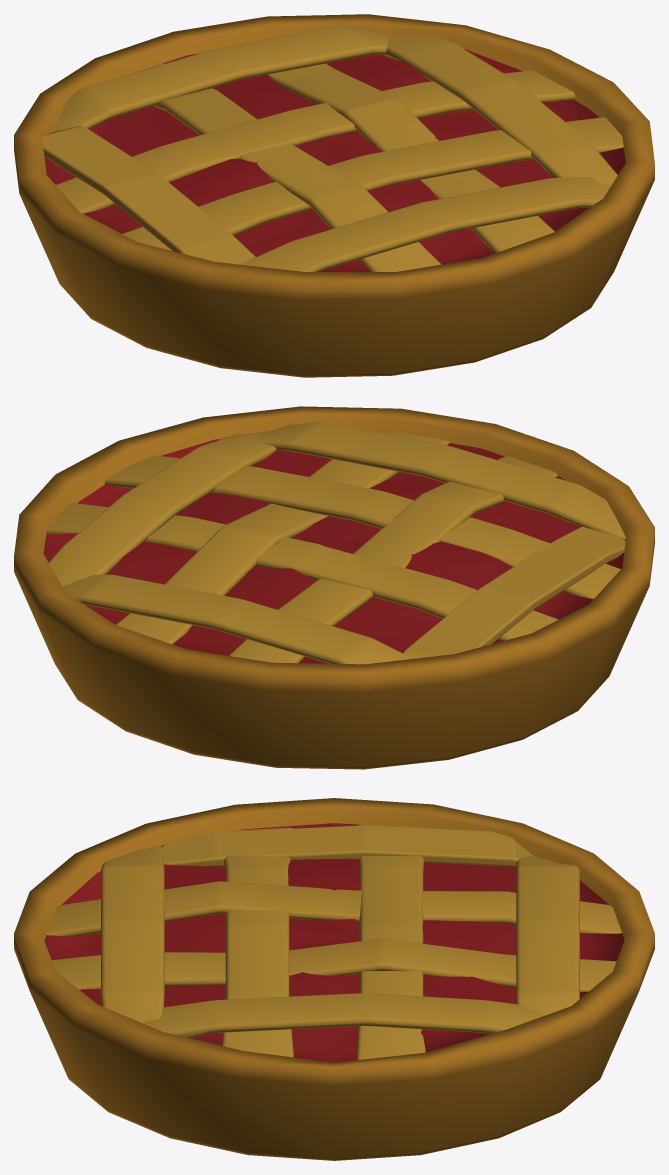
The model's file is Pie03.fbx.
The picture shows the model from 3 angles, top to bottom: view 1: azimuth 30°, elevation 25°; view 2: azimuth 150°, elevation 25°; view 3: azimuth 270°, elevation 25°; orthographic projection.
Parts seen in each view (by area): view 1: Pie03; view 2: Pie03; view 3: Pie03.
Boxes of the visible parts, <box> form: Pie03: <box>14,14,654,377</box>; Pie03: <box>14,406,654,769</box>; Pie03: <box>14,798,654,1160</box>.
Bounding box in the file's own units: 224 × 47.34 × 224.
